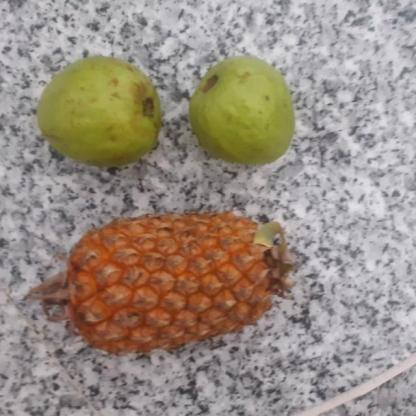guava: (38, 55, 169, 164), (186, 57, 299, 163)
pear: (184, 56, 300, 162)
pineapple: (55, 209, 299, 353)
